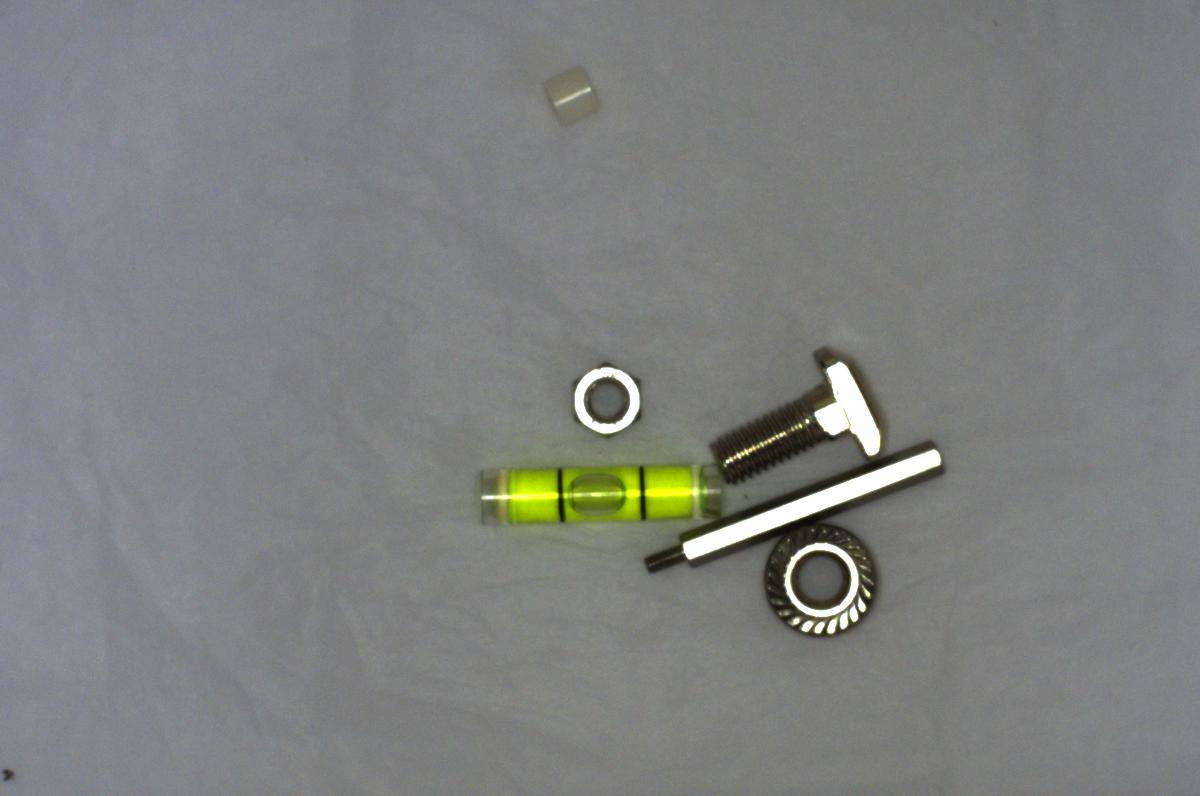Flange nut: (755, 518, 885, 646)
Hexagon nut: (561, 355, 653, 440)
Hexagonal steel column: (644, 435, 958, 573)
Horizontal bubble: (466, 449, 725, 533)
Plastic cushion pillar: (539, 58, 600, 133)
T-shaped screw: (710, 336, 891, 476)
